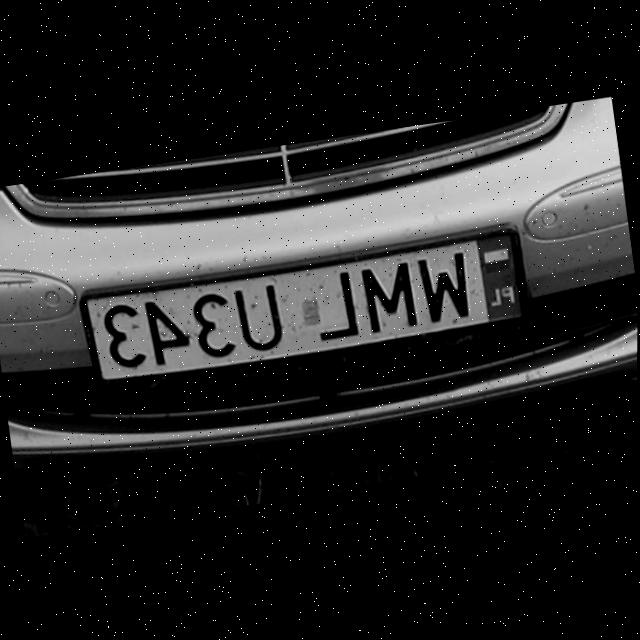license-plates: (85, 234, 524, 390)
